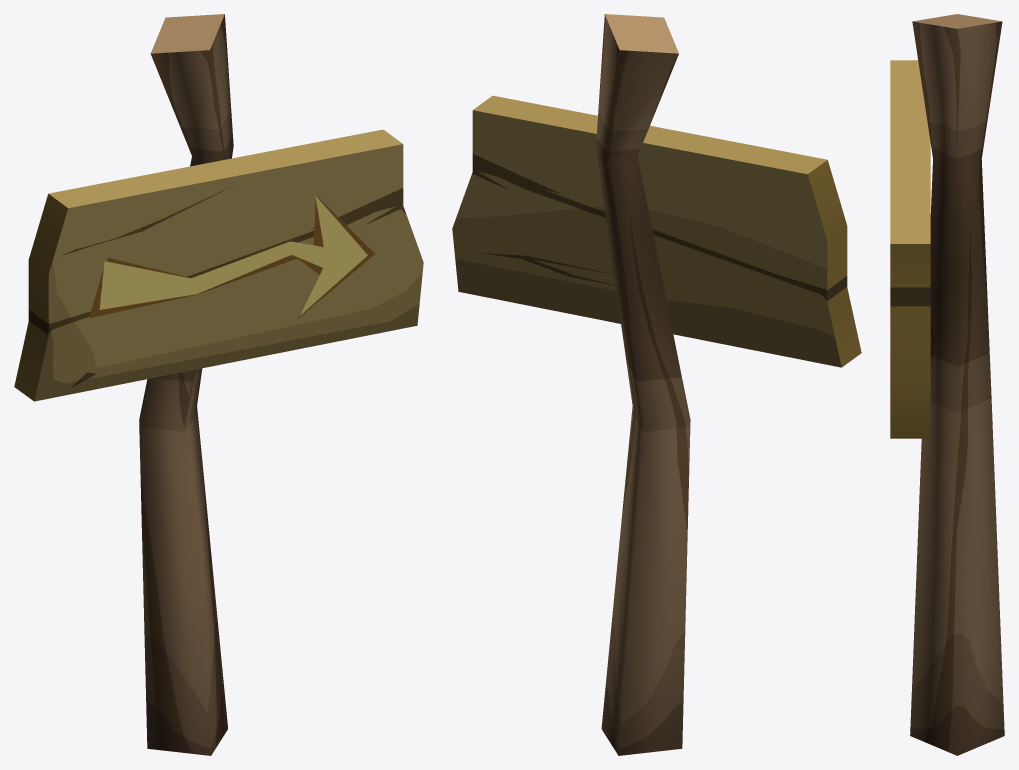
The model's file is F_W_O_board_001.fbx.
3 views of the same model, side by side, from view 1: azimuth 30°, elevation 25°; view 2: azimuth 150°, elevation 25°; view 3: azimuth 270°, elevation 25° (orthographic).
Visible parts, largest first — view 1: F_W_O_board_001; view 2: F_W_O_board_001; view 3: F_W_O_board_001.
Boxes of the visible parts, left/top/right/bottom form: F_W_O_board_001: left=14, top=14, right=423, bottom=755; F_W_O_board_001: left=452, top=14, right=861, bottom=755; F_W_O_board_001: left=890, top=14, right=1004, bottom=755.
Bounding box in the file's own units: 4.82 × 8.46 × 1.21.
